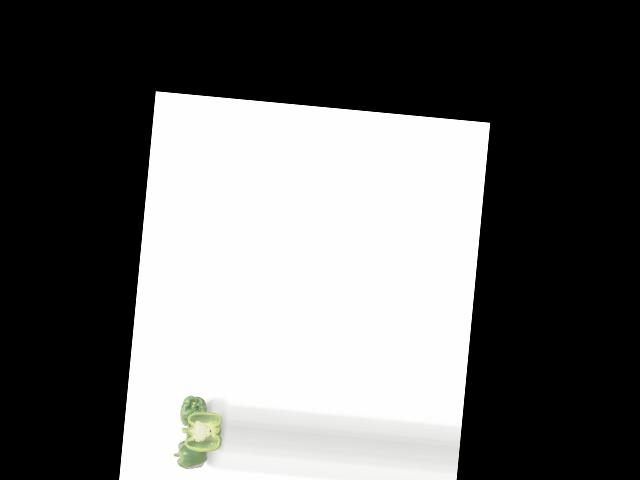bell_pepper: (176, 391, 212, 430)
